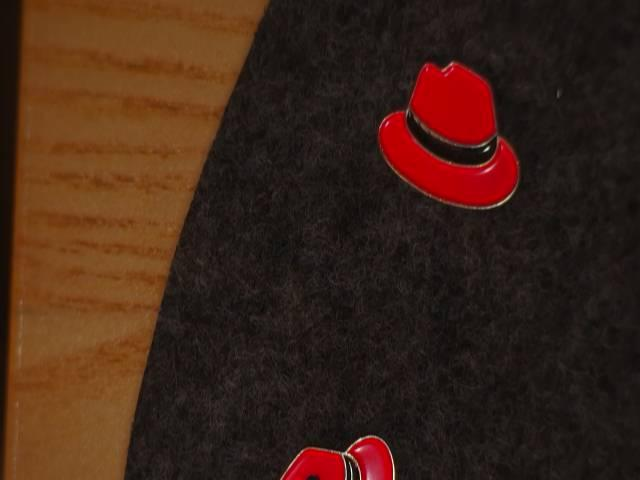Red-Hat: (367, 37, 544, 233), (264, 415, 407, 480)
